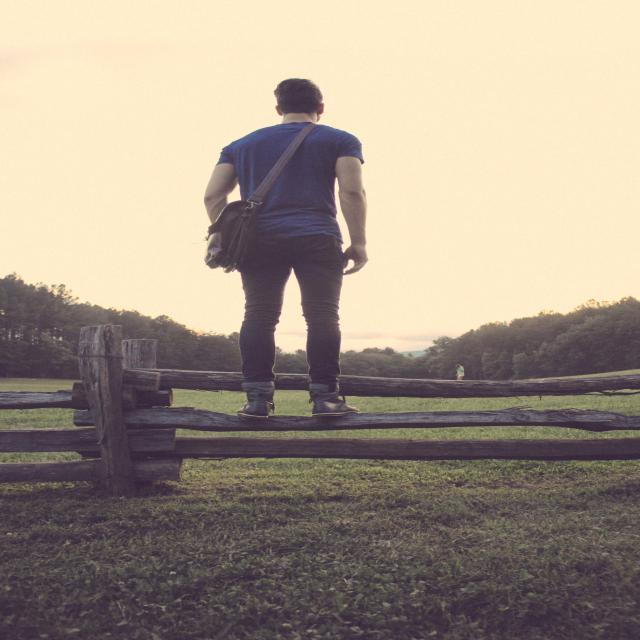adult: (203, 77, 371, 428)
